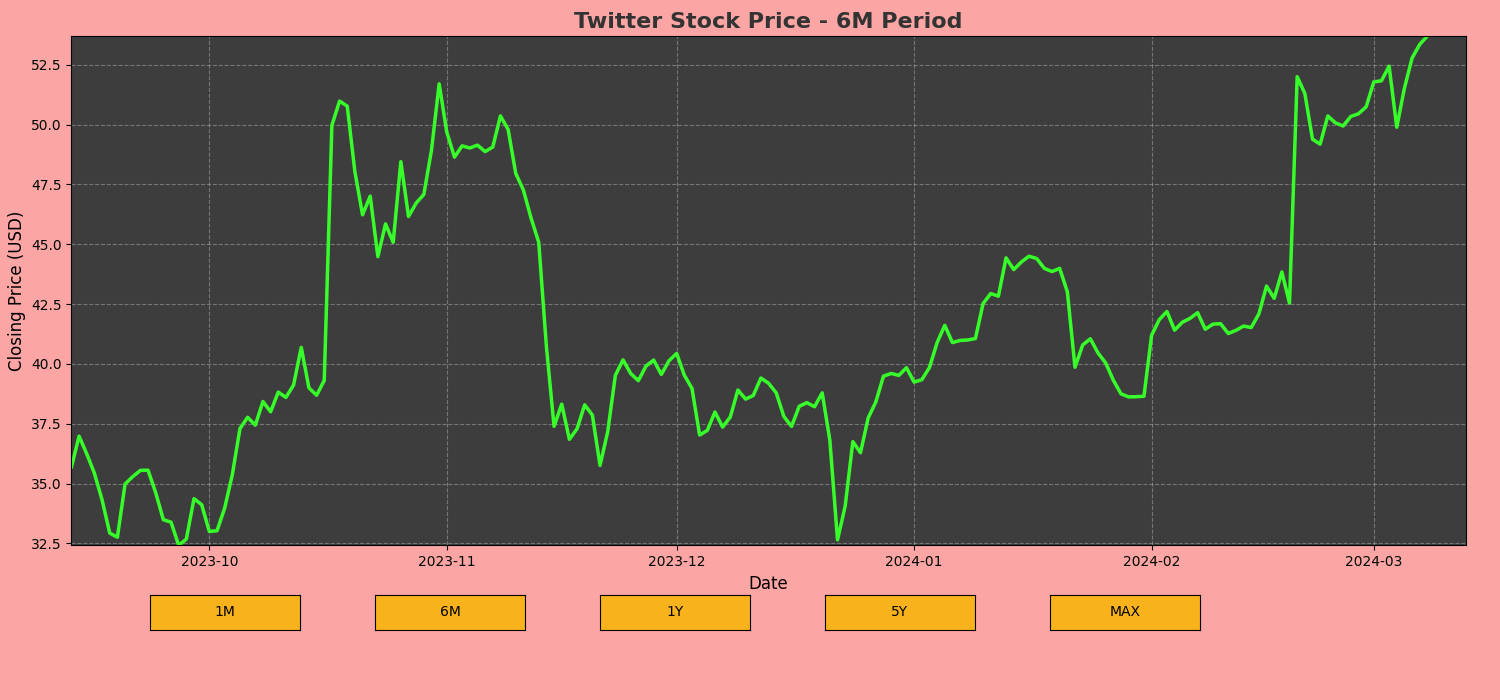

The page's visual inventory and layout, read from the dashboard file:
{"tool":"powerbi","page":{"name":"Page 1","canvas":[1280,720],"ordinal":0},"visuals":[{"type":"pythonVisual","fields":{"Values":["TWTR.Date","TWTR.Close"]},"box":[10,0,1268.9,719],"z":0}]}

Visuals, with their boxes on the page's 1280x720 design canvas (x1, y1, x2, y2). These are canvas units, not pixel positions in the 1500x700 screenshot, which may show the page scaled, cropped or inside an application window:
pythonVisual - TWTR.Date x TWTR.Close: [x1=10, y1=0, x2=1279, y2=719]
